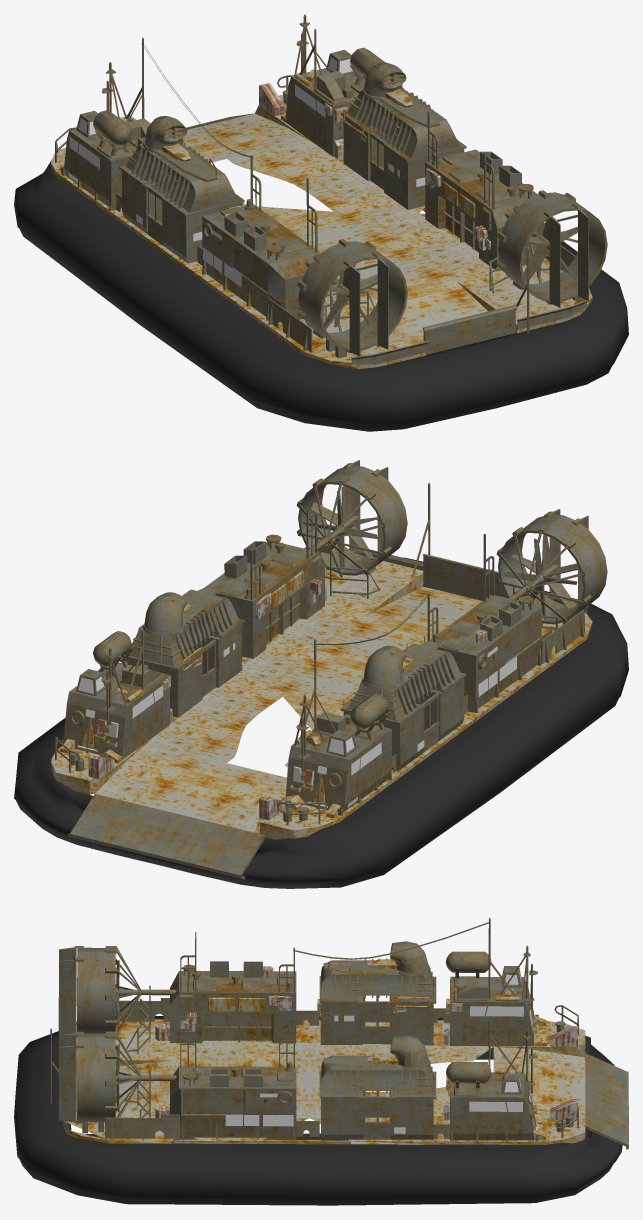
The model's file is warship2.dae.
3 views of the same model, one above another, from view 1: azimuth 30°, elevation 25°; view 2: azimuth 150°, elevation 25°; view 3: azimuth 270°, elevation 25° (orthographic). The views are drawn at different scales.
Visible parts, largest first — view 1: Object001, Object002, Object003, Object004, boat_vlo; view 2: Object001, Object003, Object002, boat_vlo, Object004; view 3: Object001, Object002, Object003, boat_vlo, Object004.
Part boxes in pixels (x1,y1,x2,y2): Object001: (55, 14, 607, 364); Object002: (14, 159, 628, 431); Object003: (51, 69, 592, 369); Object004: (68, 84, 441, 287); boat_vlo: (224, 83, 504, 321); Object001: (55, 460, 607, 879); Object003: (51, 561, 592, 839); Object002: (14, 557, 628, 888); boat_vlo: (77, 579, 487, 820); Object004: (85, 593, 516, 807); Object001: (50, 917, 628, 1149); Object002: (14, 1016, 622, 1205); Object003: (64, 959, 585, 1144); boat_vlo: (155, 966, 578, 1130); Object004: (225, 995, 530, 1133).
Bounding box in the file's own units: 0.4973 × 0.8078 × 0.2531.
